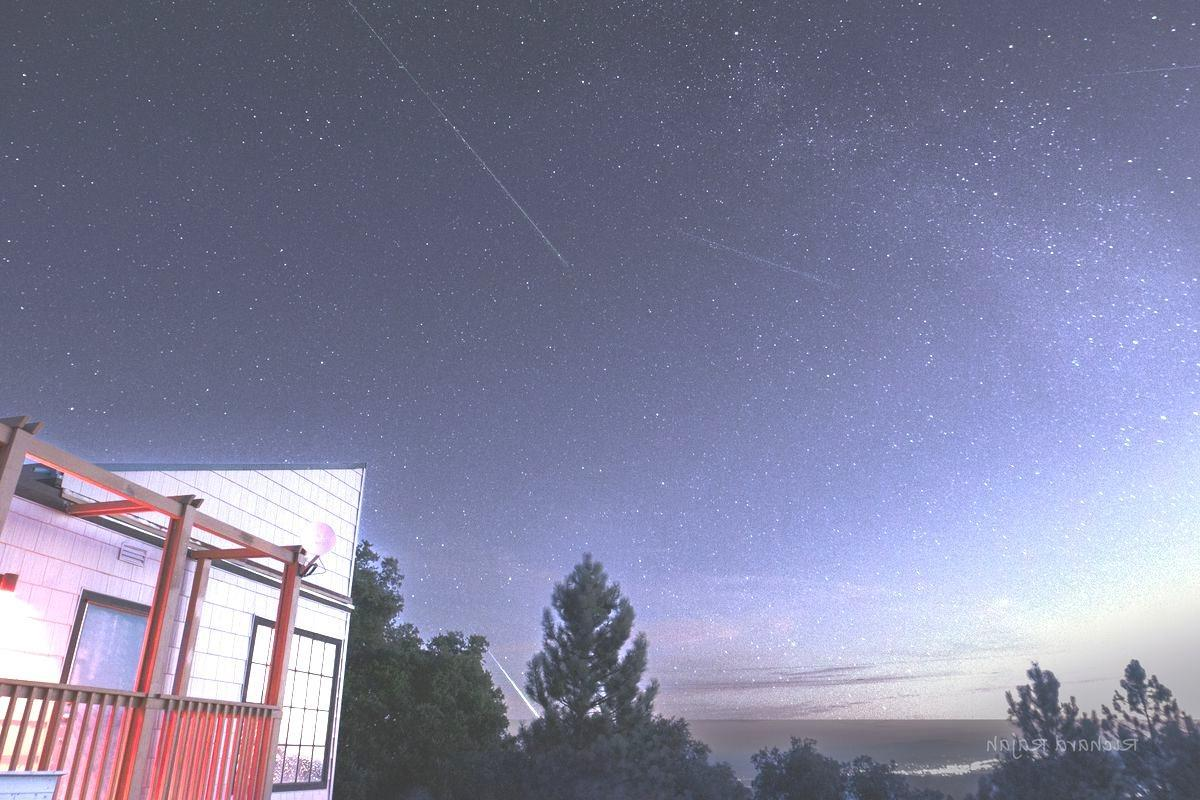meteorite: (382, 71, 580, 253), (470, 612, 554, 738)
